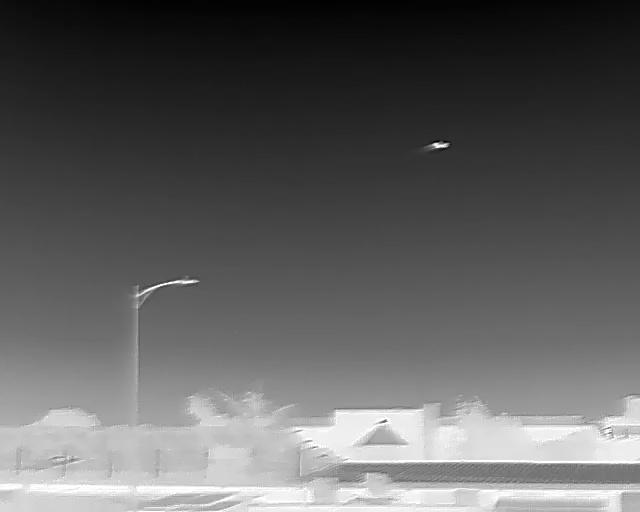fpv-drone: (422, 141, 450, 151)
